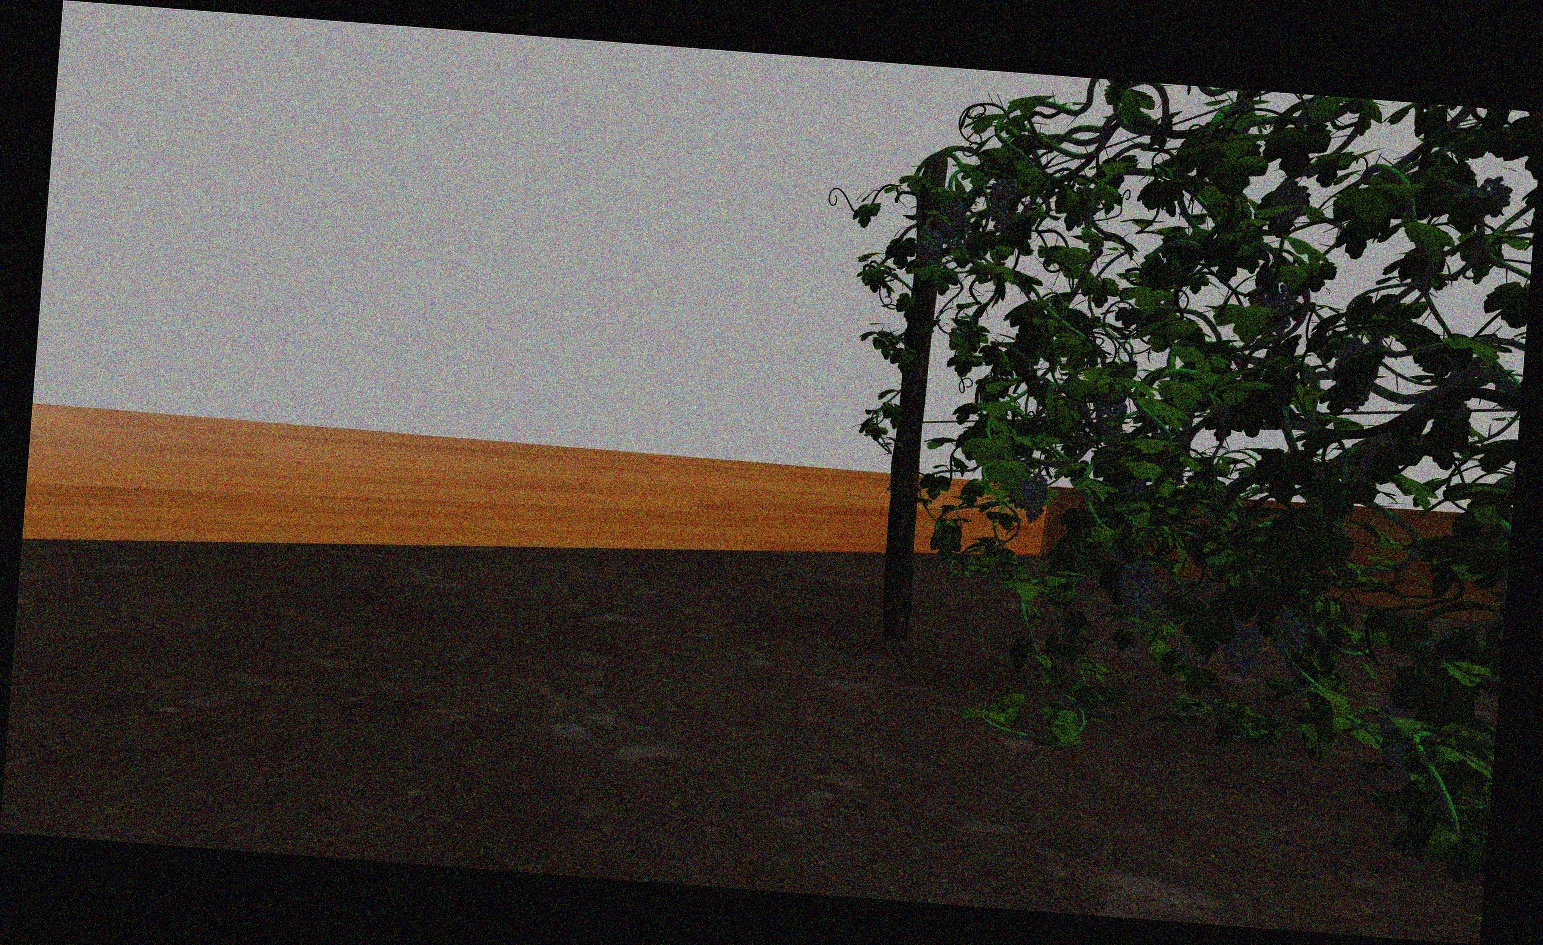grape: (1377, 697, 1418, 775), (1118, 559, 1158, 621), (1224, 620, 1265, 680), (1267, 606, 1312, 661), (1265, 176, 1307, 228), (989, 176, 1019, 232), (1092, 395, 1127, 441), (1475, 176, 1513, 218), (1023, 472, 1051, 526), (938, 195, 965, 244), (915, 227, 941, 267)
